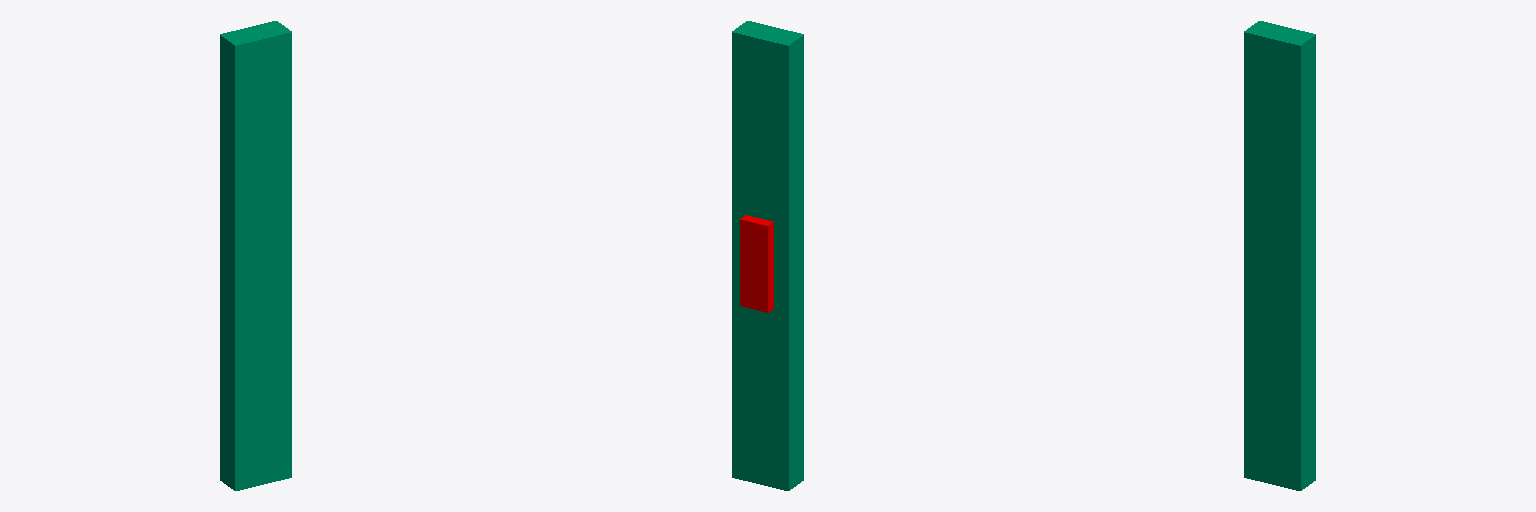
robot.urdf — knife:
<?xml version='1.0' encoding='utf-8'?>
<robot name="knife">
  <link name="base" /><joint name="joint_0" type="fixed"><origin xyz="0 0 0" rpy="0 0 0" /><parent link="base" /><child link="link_0" /></joint><link name="link_1">
    <visual name="link_1">
      <origin xyz="0 0.006294 0" rpy="0 0 0" />
      <geometry>
        <box size="0.00935979546618808 0.0034832655709506983 0.02759310595712621" /></geometry>
    <material name="red"><color rgba="1 0 0 1" /></material></visual>
    <collision>
      <origin xyz="0 0.006294 0" rpy="0 0 0" />
      <geometry>
        <box size="0.00935979546618808 0.0034832655709506983 0.02759310595712621" /></geometry>
    </collision>
    </link>
  <joint name="joint_1" type="prismatic">
    <origin xyz="0 0 0" />
    <axis xyz="0 0 1" />
    <child link="link_1" />
    <parent link="link_0" />
    <limit lower="-0.041523" upper="0.008477" effort="100.0" velocity="1.0" />
  </joint>
  <link name="link_0">
    <visual name="link_0">
      <origin xyz="0 0 0" />
      <geometry>
        <box size="0.019001857930990993 0.009105582345523068 0.14168999793326206" /></geometry>
    </visual>
    <collision>
      <origin xyz="0 0 0" />
      <geometry>
        <box size="0.019001857930990993 0.009105582345523068 0.14168999793326206" /></geometry>
    </collision>
    </link>
</robot>

--- Render facts (derived) ---
The picture shows the robot from 3 angles, left to right: view 1: azimuth 30°, elevation 25°; view 2: azimuth 150°, elevation 25°; view 3: azimuth 330°, elevation 25°; orthographic projection.
Model knife with 3 links and 2 joints (1 prismatic, 1 fixed), rooted at base, posed every joint at zero.
Visible links, largest first — view 1: link_0; view 2: link_0, link_1; view 3: link_0.
Link boxes in pixels (left/top/right/bottom): link_0: left=220, top=21, right=291, bottom=490; link_0: left=732, top=21, right=803, bottom=490; link_1: left=740, top=215, right=773, bottom=312; link_0: left=1244, top=21, right=1315, bottom=490.
Size in the robot's own frame: 0.019 by 0.0126 by 0.1417 metres.
Geometry: primitives only (box / cylinder / sphere), no mesh files.
